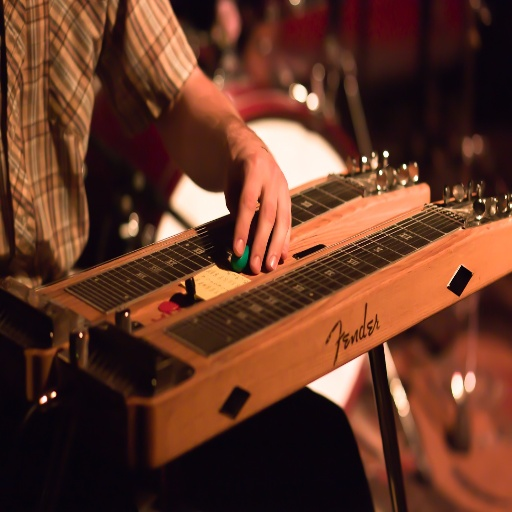hand: (224, 114, 295, 269)
